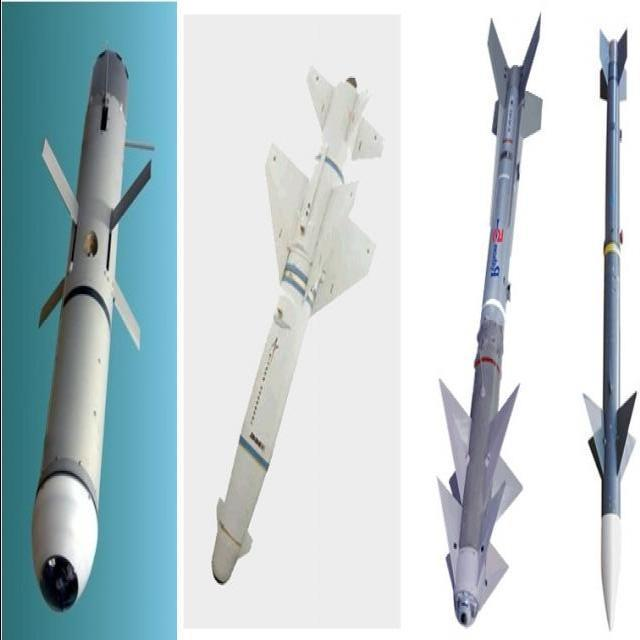Missile: (400, 0, 558, 631), (15, 25, 164, 603), (574, 9, 640, 640)
